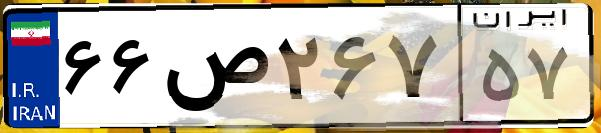2: (270, 28, 330, 110)
5: (475, 38, 525, 113)
6: (330, 28, 385, 110), (57, 26, 110, 100), (110, 28, 158, 98)
7: (385, 28, 445, 110), (525, 38, 570, 115)
ص: (158, 20, 270, 120)
